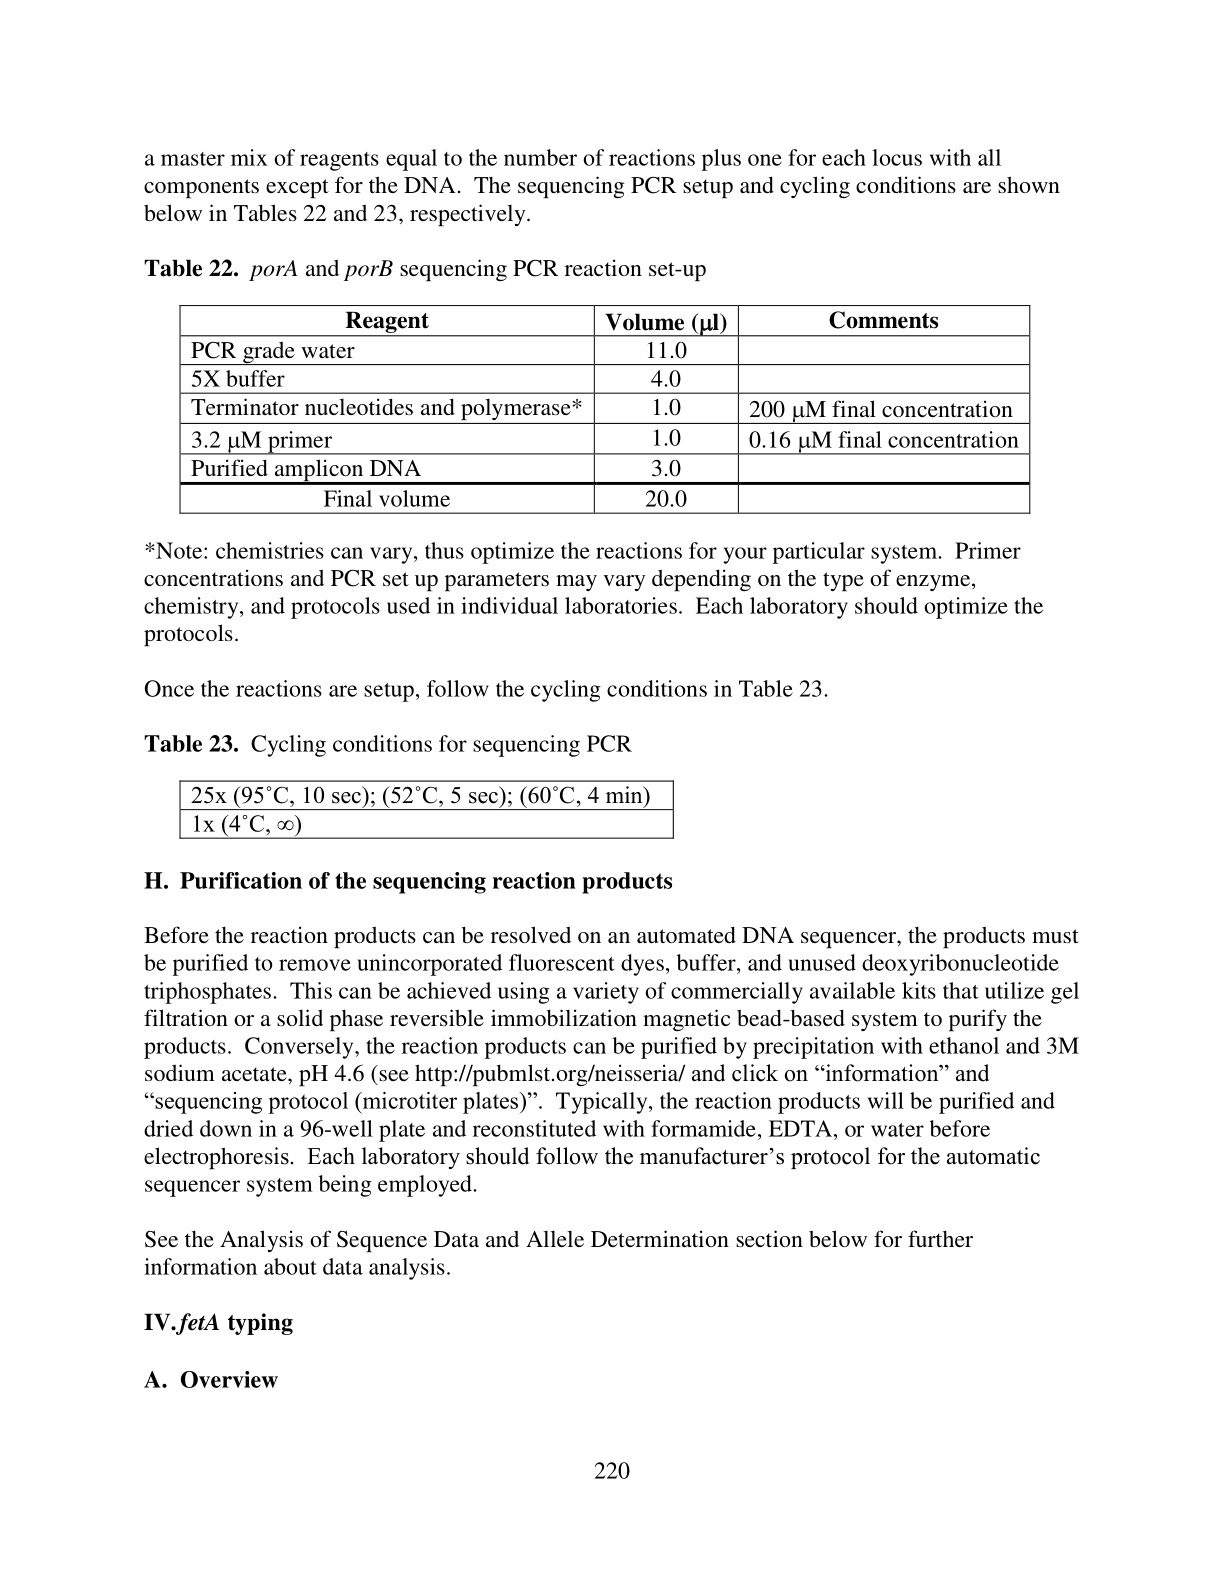full_lined: (177, 303, 1031, 514), (177, 779, 675, 840)
